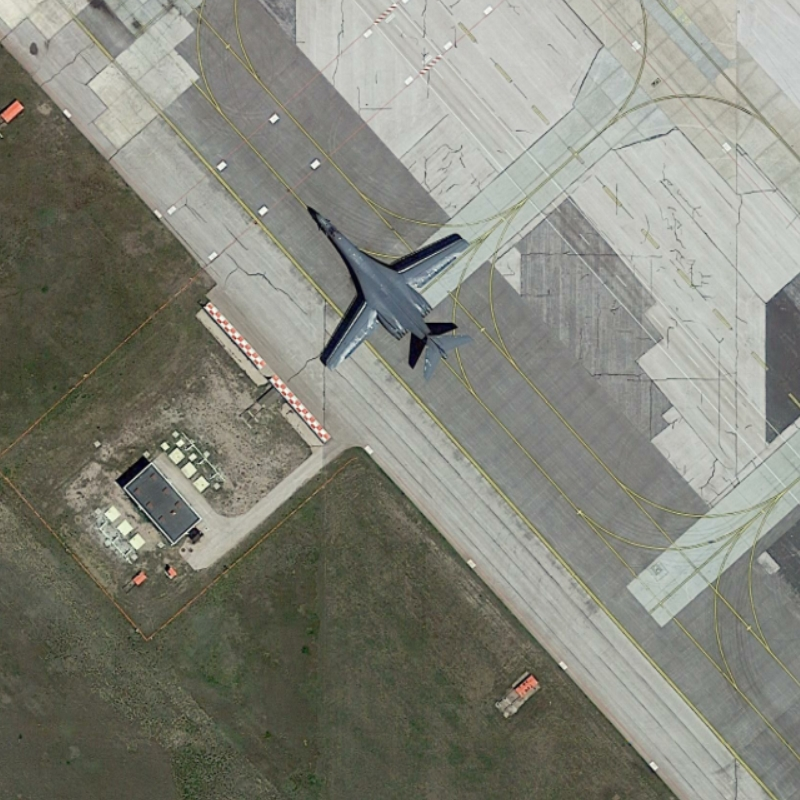A10: (296, 192, 495, 392)
